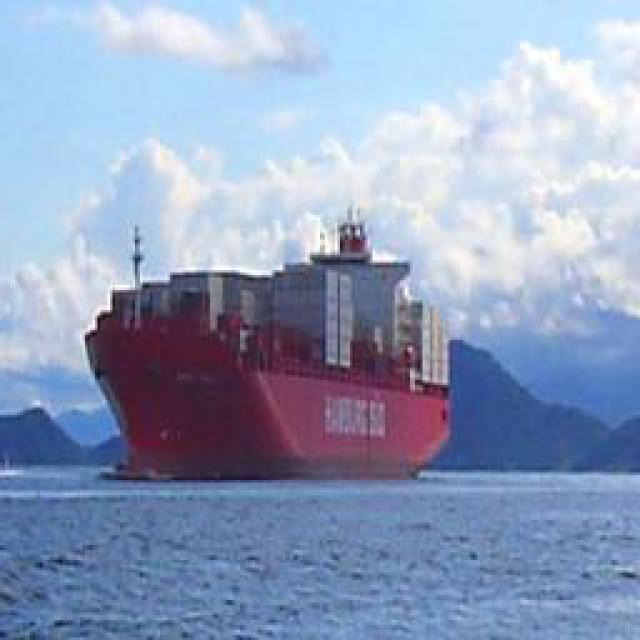Ship: (82, 204, 461, 485)
